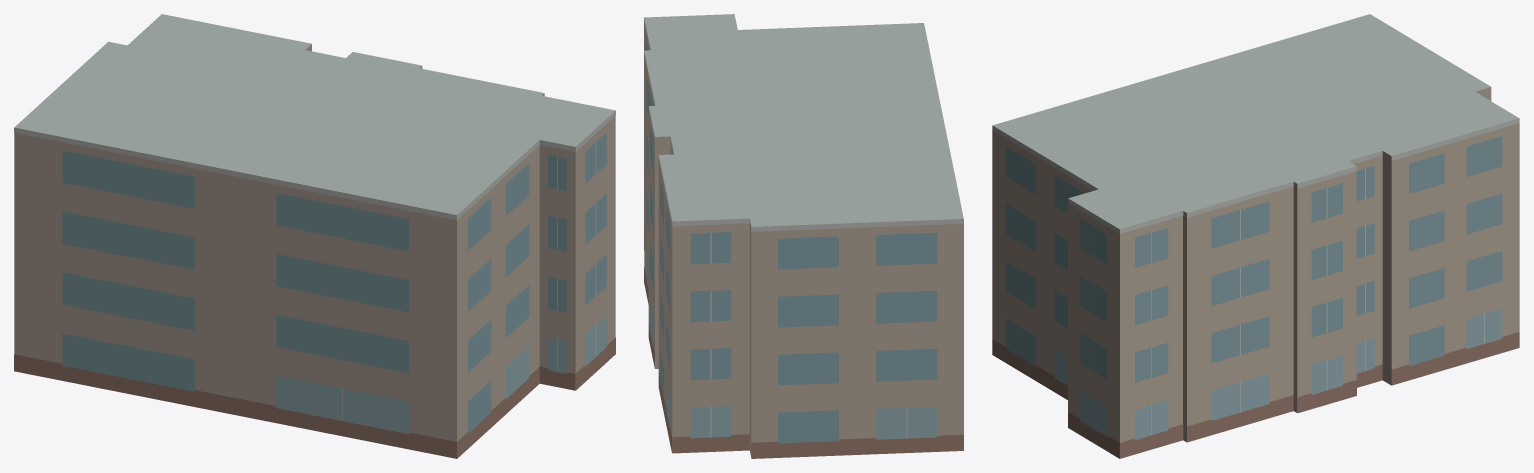
The model's file is survey-upis-32604897.glb.
3 renders of one model, left to right at view 1: azimuth 30°, elevation 25°; view 2: azimuth 150°, elevation 25°; view 3: azimuth 270°, elevation 25°, orthographic. The views are drawn at different scales.
Parts seen in each view (by area): view 1: survey-upis-32604897.tmp; view 2: survey-upis-32604897.tmp; view 3: survey-upis-32604897.tmp.
Part boxes in pixels (<box>): survey-upis-32604897.tmp: <box>14,14,615,458</box>; survey-upis-32604897.tmp: <box>644,14,963,458</box>; survey-upis-32604897.tmp: <box>992,14,1519,458</box>.
Bounding box in the file's own units: 23.16 × 11.5 × 23.95.
